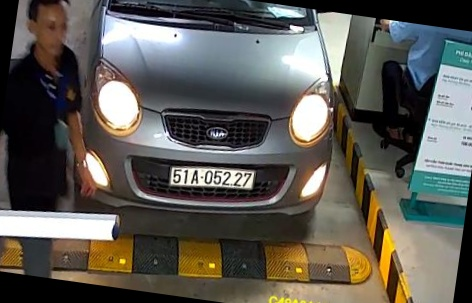plate: (171, 161, 256, 190)
